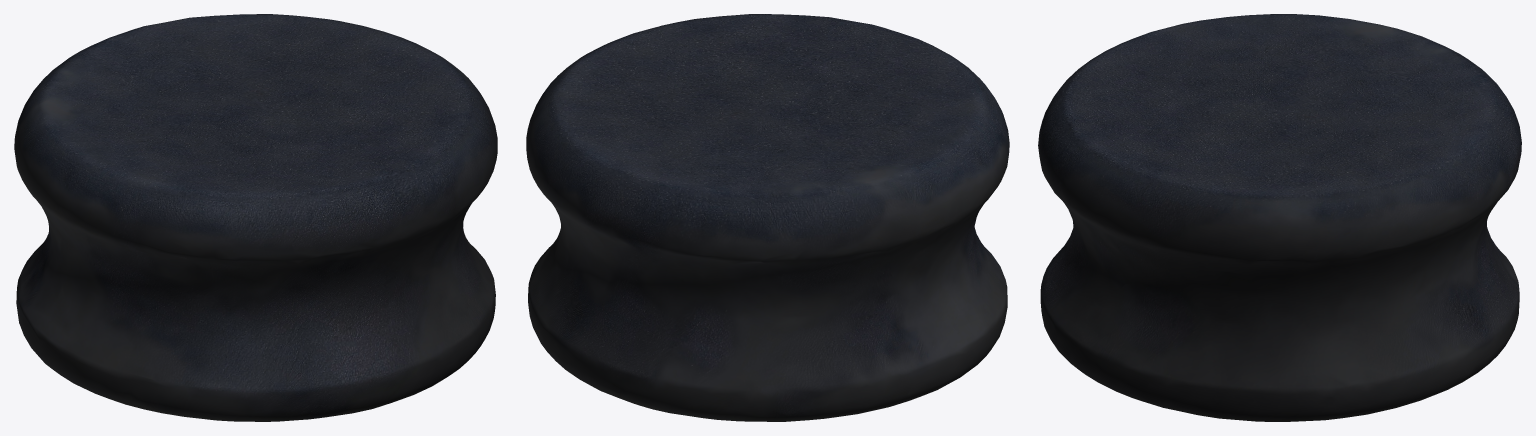
The model's file is BumperKnob.glb.
The picture shows the model from 3 angles, left to right: view 1: azimuth 30°, elevation 25°; view 2: azimuth 150°, elevation 25°; view 3: azimuth 270°, elevation 25°; orthographic projection.
Visible parts, largest first — view 1: tripo_node_925a4827-6bc7-4d46-92db-8da6dcb4b642; view 2: tripo_node_925a4827-6bc7-4d46-92db-8da6dcb4b642; view 3: tripo_node_925a4827-6bc7-4d46-92db-8da6dcb4b642.
Boxes of the visible parts, x1,y1,x2,y2 form: tripo_node_925a4827-6bc7-4d46-92db-8da6dcb4b642: [14, 14, 497, 421]; tripo_node_925a4827-6bc7-4d46-92db-8da6dcb4b642: [526, 14, 1009, 421]; tripo_node_925a4827-6bc7-4d46-92db-8da6dcb4b642: [1038, 14, 1521, 421].
Bounding box in the file's own units: 1 × 0.5201 × 0.9995.
1 material, 1 textured.
